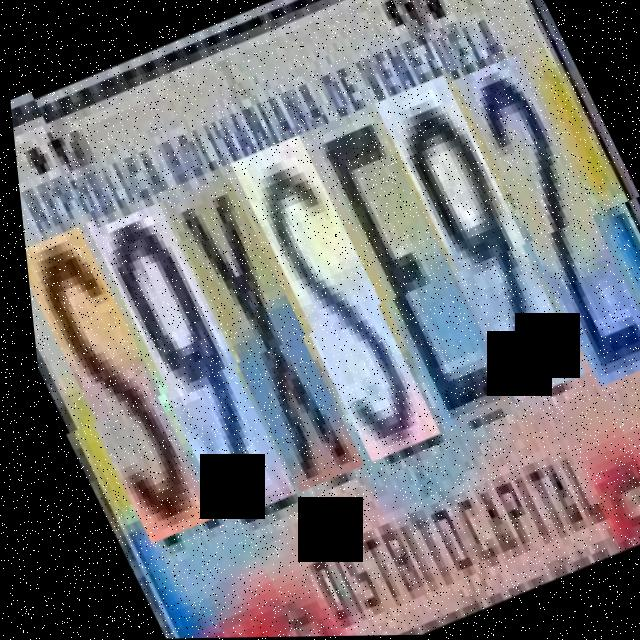2: (447, 45, 640, 380)
9: (370, 75, 583, 403), (82, 201, 292, 522)
E: (301, 104, 510, 432)
S: (224, 135, 437, 463), (19, 233, 215, 552)
X: (155, 173, 360, 492)
